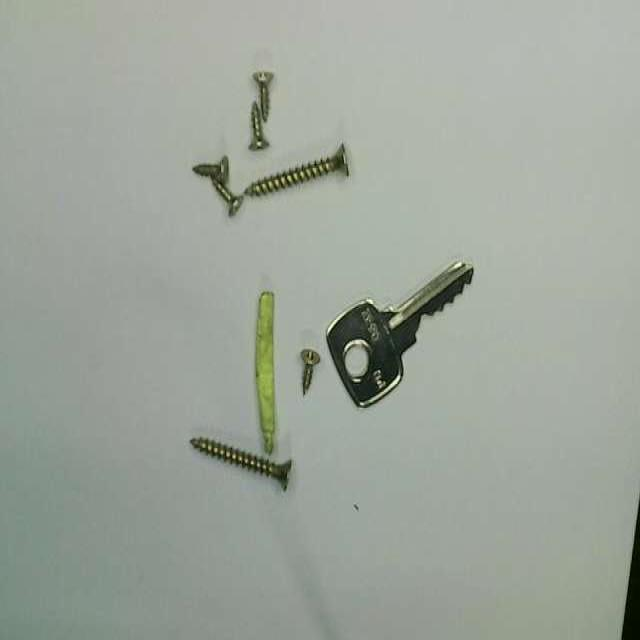Parafuso: (244, 144, 348, 195), (190, 438, 291, 490), (212, 178, 243, 215), (253, 71, 273, 121), (249, 102, 268, 150), (192, 156, 227, 182), (301, 350, 319, 394)
